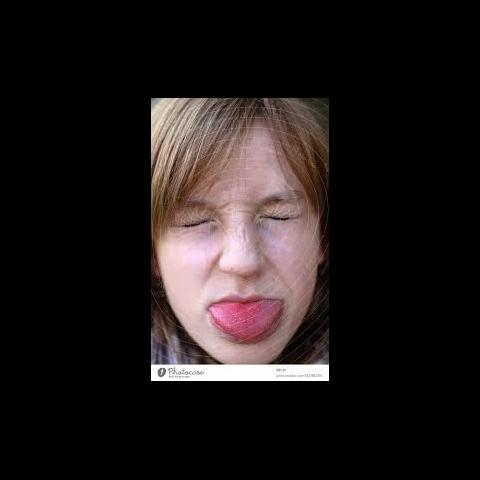closed: (155, 193, 315, 241)
